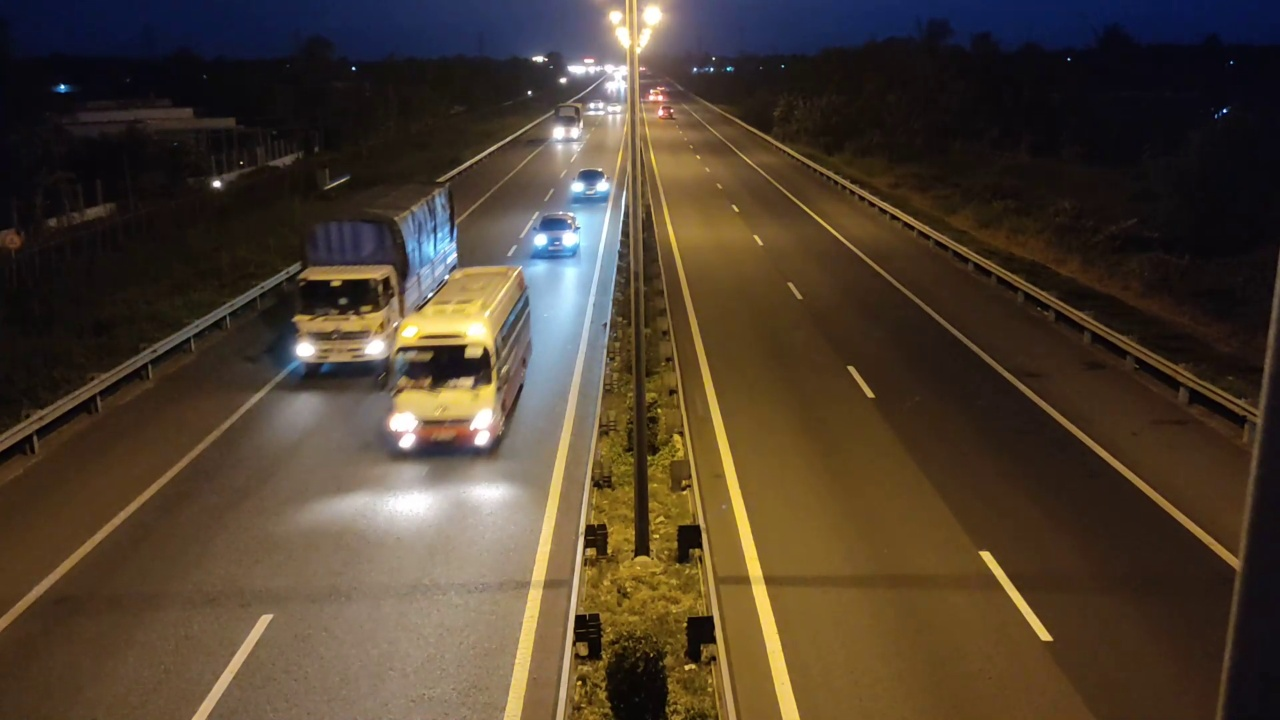bus: (378, 263, 535, 459)
car: (529, 211, 581, 259), (569, 167, 611, 201)
truck: (289, 179, 460, 379)
